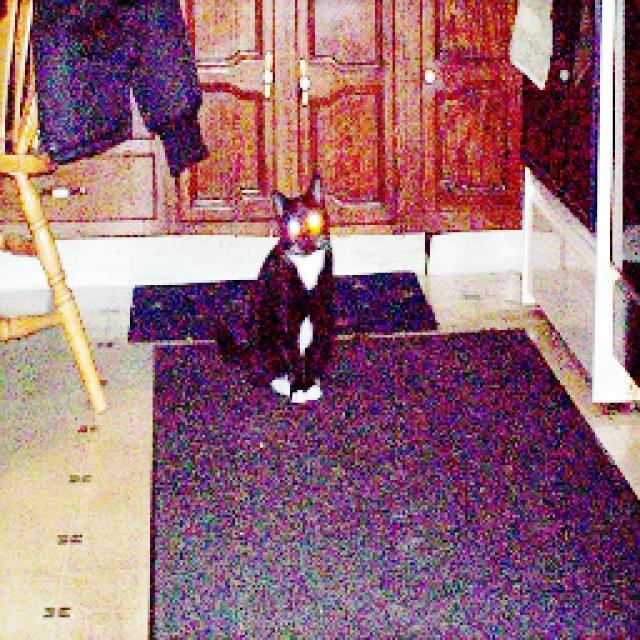cat: (207, 170, 357, 416)
